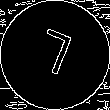L_S: (31, 26, 79, 84)
